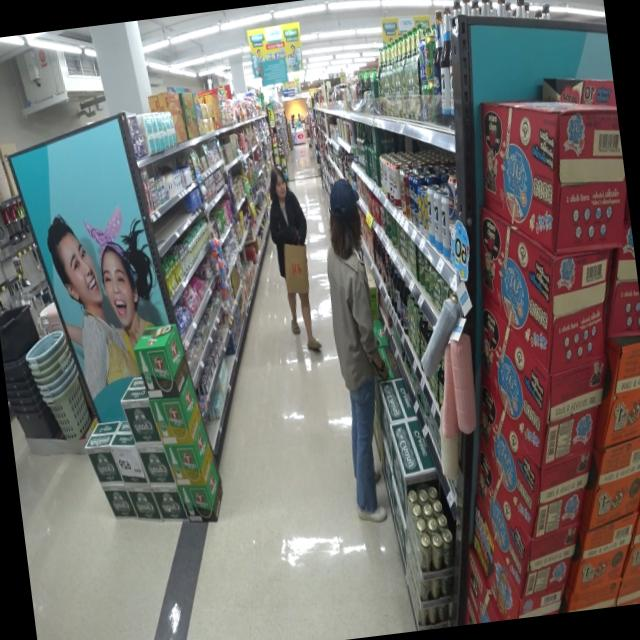shoplifting: (268, 166, 322, 352)
